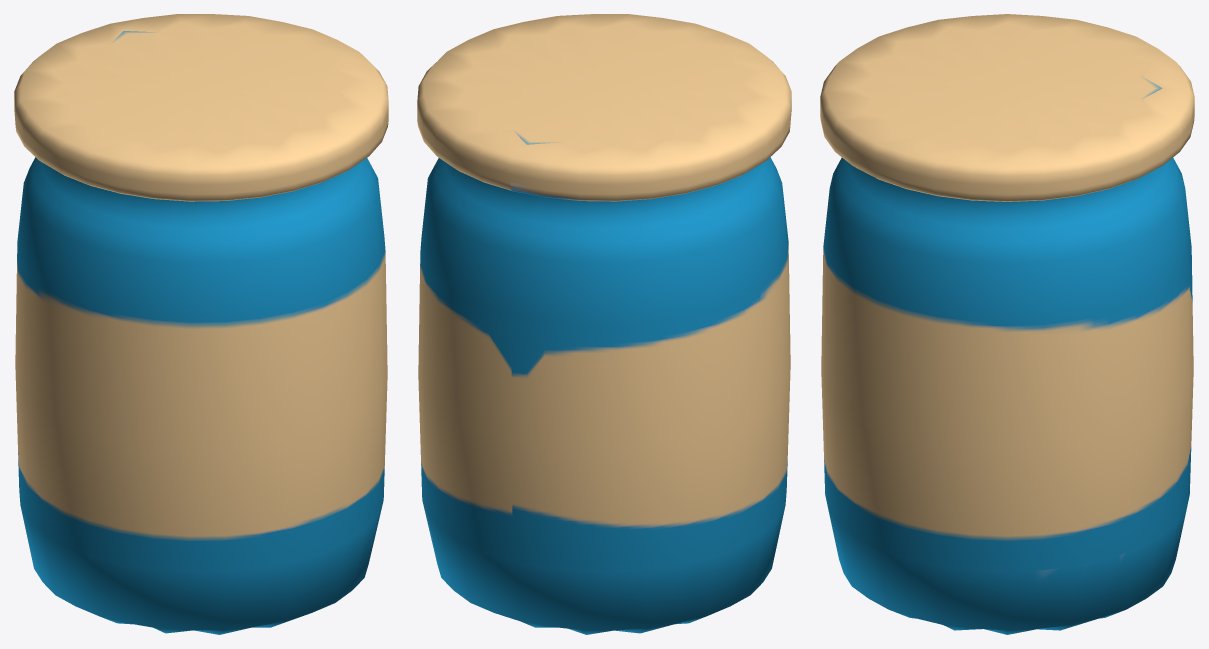
Rendered from Flask_002.glb.
3 views of the same model, side by side, from view 1: azimuth 30°, elevation 25°; view 2: azimuth 150°, elevation 25°; view 3: azimuth 270°, elevation 25° (orthographic).
Visible parts, largest first — view 1: Flask.002; view 2: Flask.002; view 3: Flask.002.
Boxes of the visible parts, bbox=[...] form: Flask.002: bbox=[14, 14, 388, 634]; Flask.002: bbox=[417, 14, 791, 634]; Flask.002: bbox=[820, 14, 1194, 634].
Size of the model in its own units: 0.1113 by 0.1635 by 0.1113.
1 material, 1 textured.
